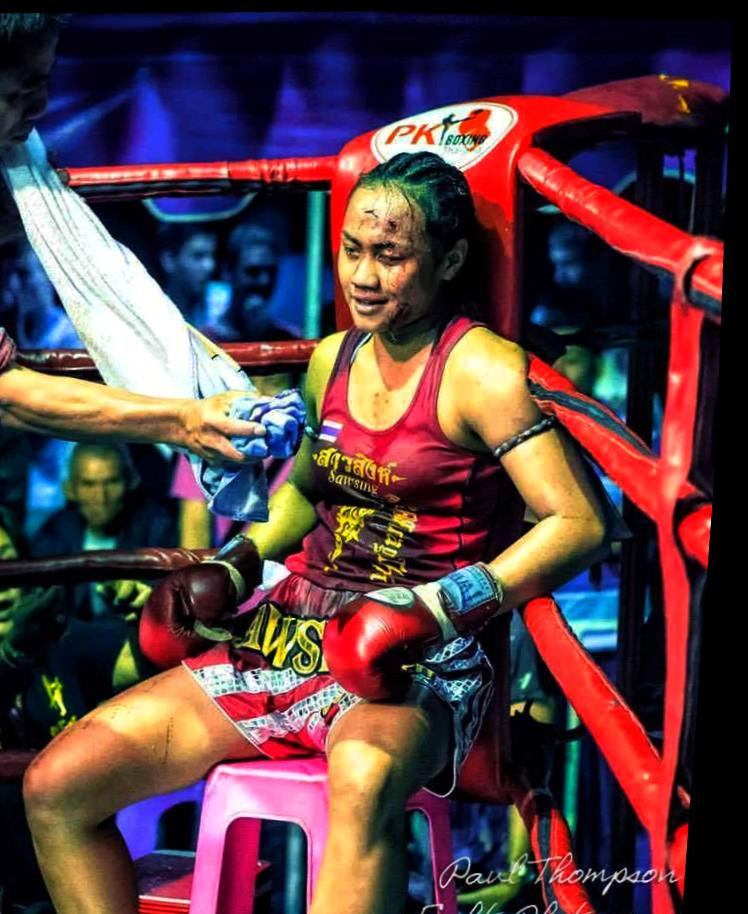Fire: (341, 182, 469, 347)
